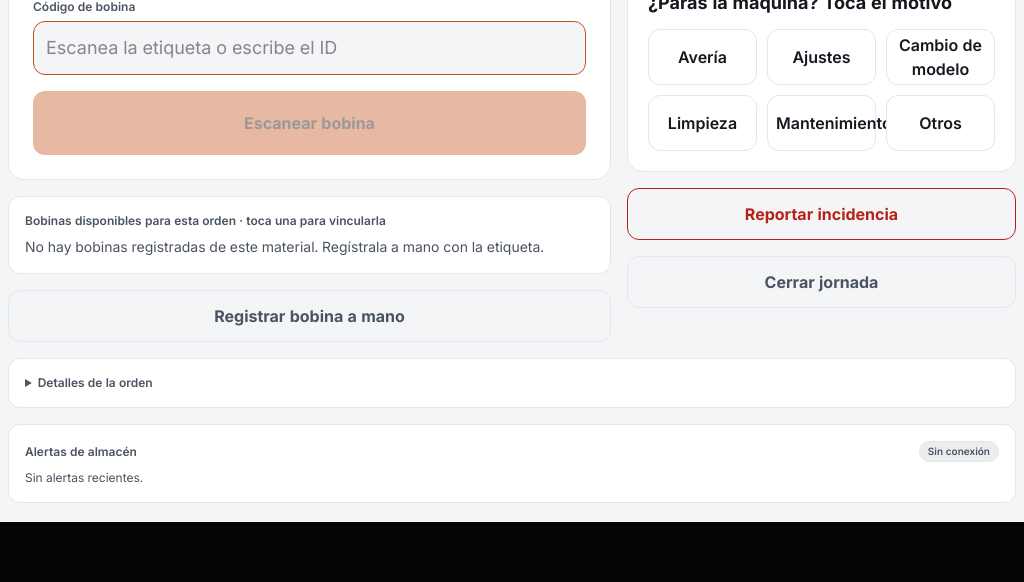
Scenario: Autocontrol de calidad (spec 04) › tras vincular, muestra el formulario con los checks del plan
Type "COIL-L-DEMO" into the field with placeholder "Escanea la etiqueta o escribe el ID" at {"x": 310, "y": 48}, box [33,21,586,75]
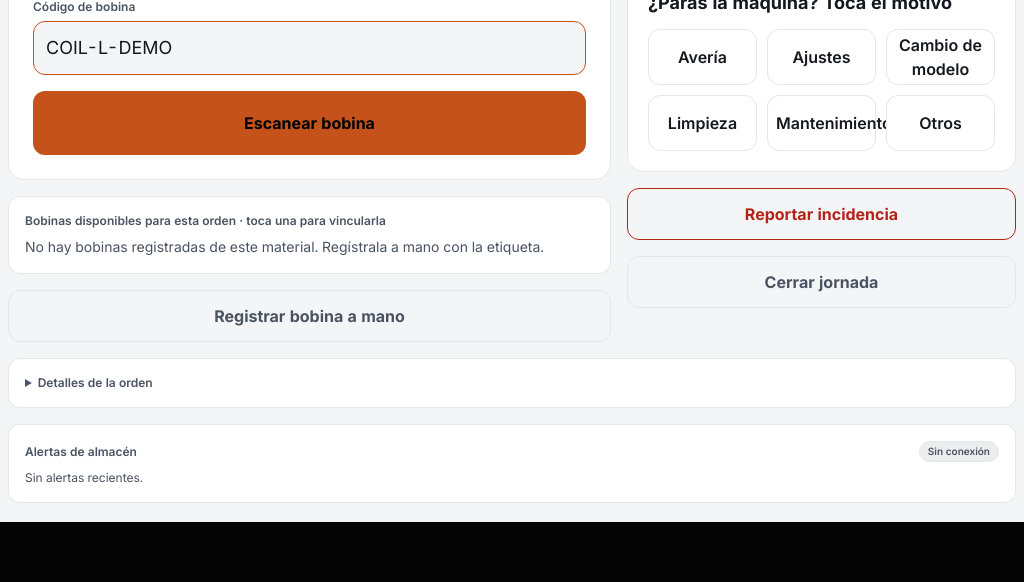
Click the button "Escanear bobina" at {"x": 310, "y": 123}, box [33,91,586,155]
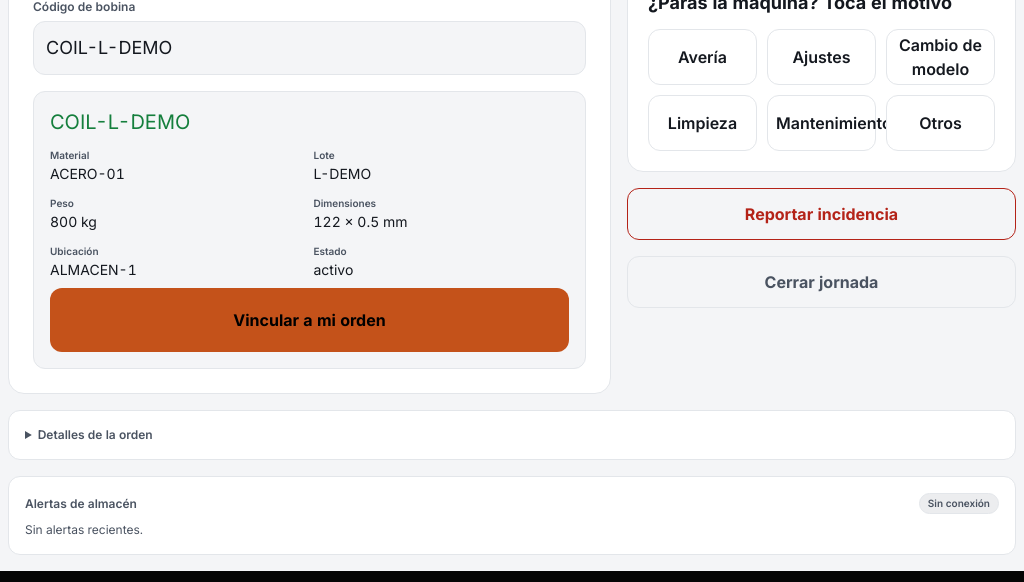
Click the button "Vincular a mi orden" at {"x": 310, "y": 320}, box [50,288,569,352]
(page scrolled)
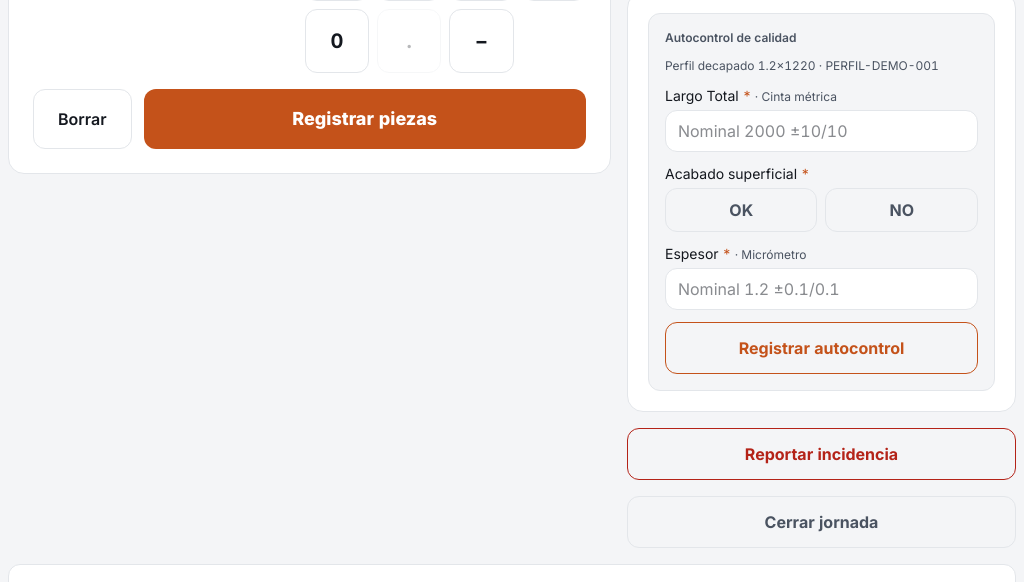
Result: the text "Autocontrol de calidad" is shown at [665,30,796,45]
Result: the number field labelled "Largo Total * · Cinta métrica" is shown at [665,110,978,152]
Result: the number field labelled "Espesor * · Micrómetro" is shown at [665,268,978,310]
